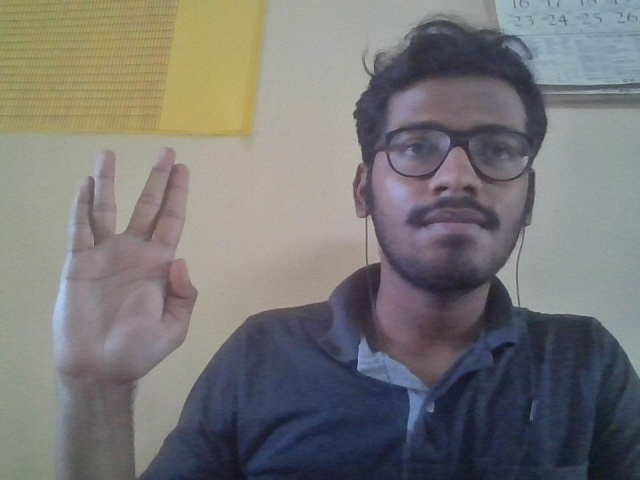LiveLong: (52, 142, 198, 395)
